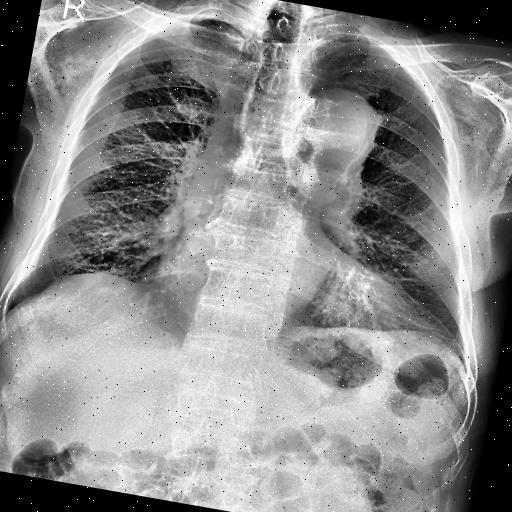0- Aortic enlargement: (274, 78, 384, 166), (290, 82, 385, 168), (289, 82, 379, 168)
11- Pleural thickening: (179, 12, 219, 26)
3- Cardiomegaly: (136, 235, 431, 365), (151, 229, 438, 344), (148, 248, 420, 340), (325, 30, 379, 46)
7- Lung Opacity: (188, 16, 266, 230)
